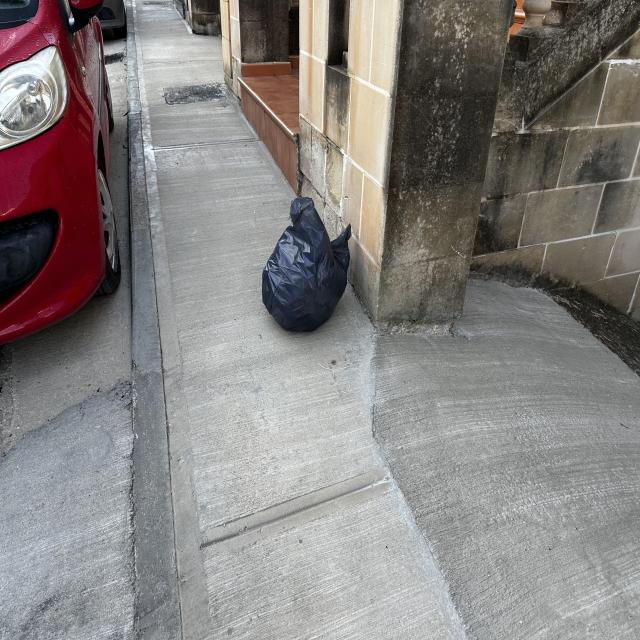Mixed Waste -Black Bags-: (262, 196, 352, 332)
